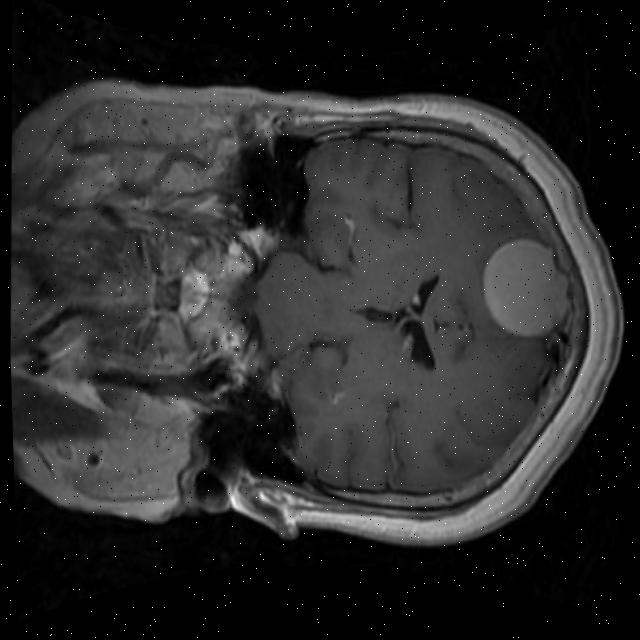Meningioma: (476, 233, 575, 342)
